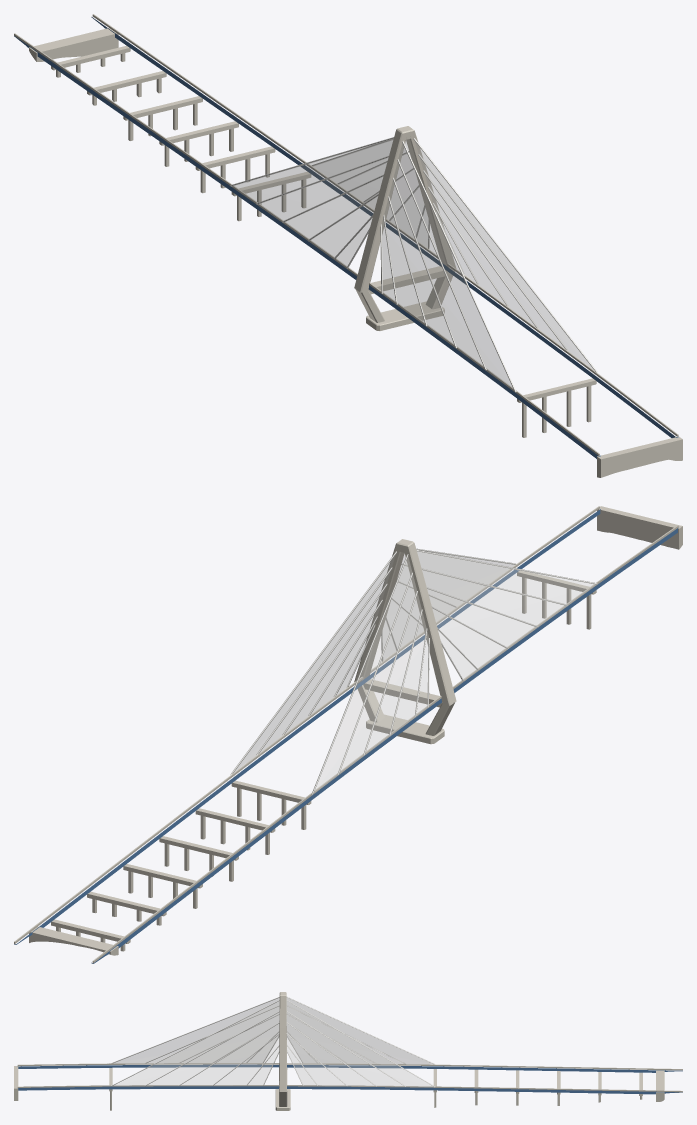
File: kc-bond-bridge.glb
3 views of the same model, one above another, from view 1: azimuth 30°, elevation 25°; view 2: azimuth 150°, elevation 25°; view 3: azimuth 270°, elevation 25° (orthographic). The views are drawn at different scales.
Visible parts, largest first — view 1: Christopher S. Bond Bridge; view 2: Christopher S. Bond Bridge; view 3: Christopher S. Bond Bridge.
Part boxes in pixels (left/top/right/bottom): Christopher S. Bond Bridge: left=14, top=14, right=682, bottom=477; Christopher S. Bond Bridge: left=14, top=506, right=682, bottom=963; Christopher S. Bond Bridge: left=14, top=992, right=682, bottom=1110.
Bounding box in the file's own units: 50.8 × 95.4 × 536.
